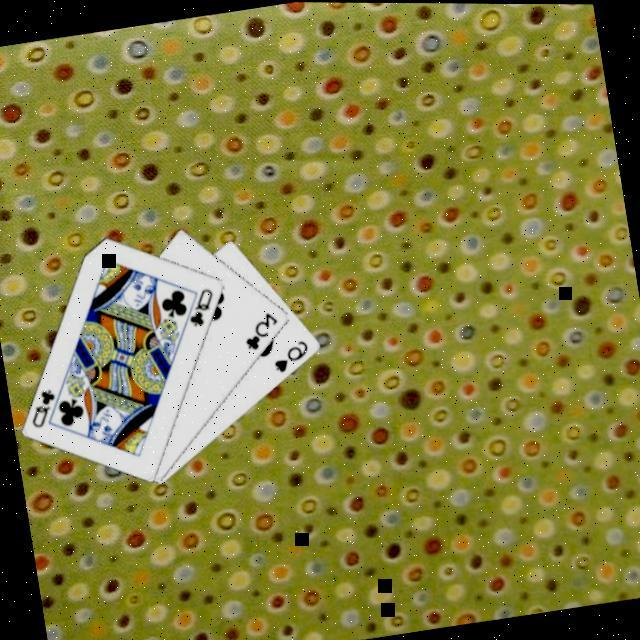3C: (239, 308, 287, 356)
6S: (269, 338, 316, 378)
QC: (183, 285, 223, 332), (25, 386, 65, 433)
